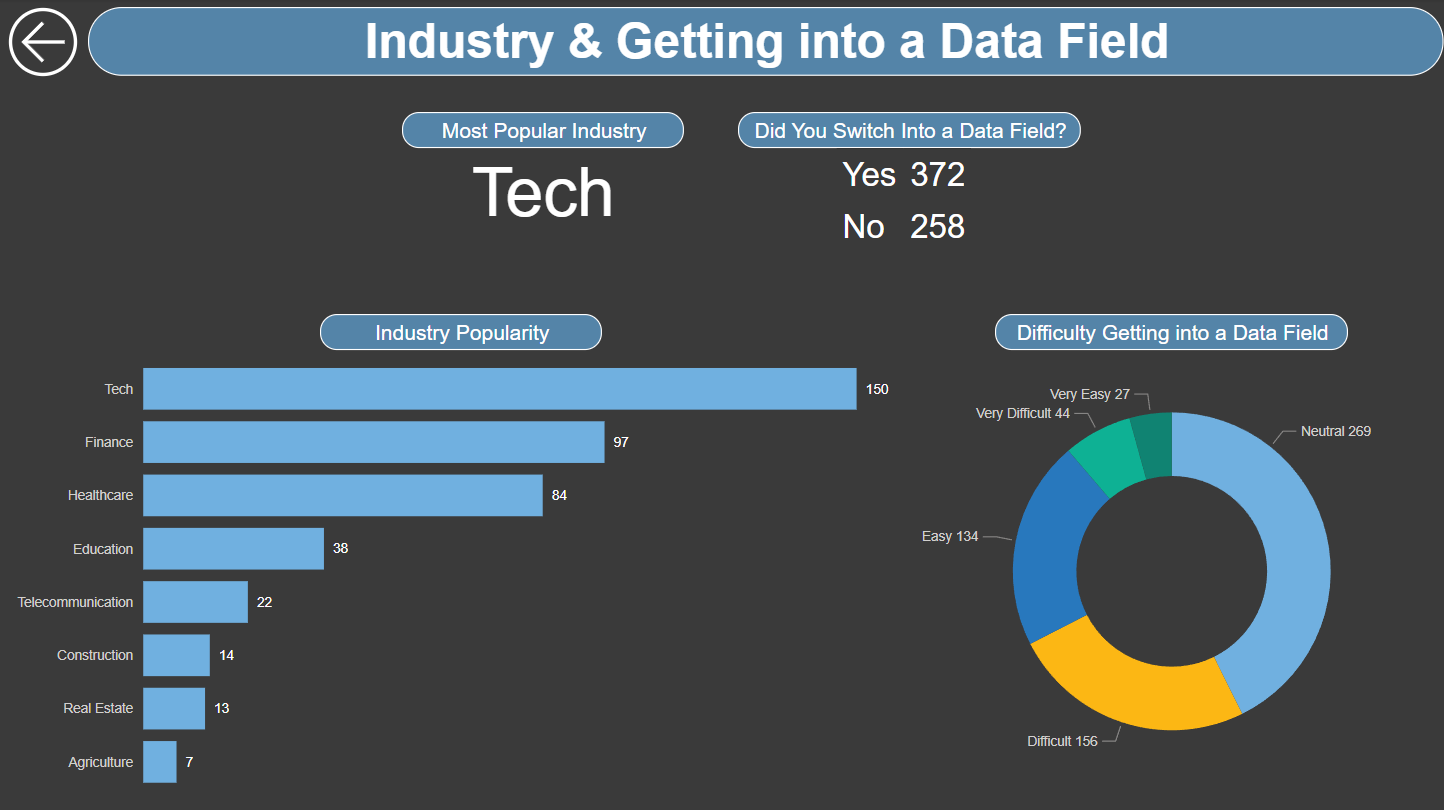

This screenshot's page, from the dashboard's own definition file:
{"tool":"powerbi","page":{"name":"Industry/Field","canvas":[1280,720],"ordinal":3},"visuals":[{"type":"donutChart","title":"Difficulty Breaking Into Data","fields":{"Y":["CountNonNull(Data Professional Survey.Q7 - How difficult was it for you to break into Data?)"],"Category":["Data Professional Survey.Q7 - How difficult was it for you to break into Data?"]},"box":[798.1,295.1,481.9,424.4],"z":0},{"type":"textbox","box":[77.6,7.1,1202.4,61.2],"z":1000},{"type":"actionButton","box":[0,0,78,76.3],"z":2000},{"type":"card","fields":{"Values":["Max(Data Professional Survey.Q4 - What Industry do you work in?.1)"]},"box":[283.6,96.8,395.7,139.9],"z":3000},{"type":"barChart","title":"Industry Popularity","fields":{"Y":["CountNonNull(Data Professional Survey.Q4 - What Industry do you work in?.1)"],"Category":["Data Professional Survey.Q4 - What Industry do you work in?.1"]},"box":[0,295.1,806.7,424.4],"z":4000},{"type":"tableEx","fields":{"Values":["Data Professional Survey.Q2 - Did you switch careers into Data?","CountNonNull(Data Professional Survey.Q2 - Did you switch careers into Data?)"]},"box":[736,86.9,146.3,149.9],"z":5000},{"type":"textbox","box":[654.4,100.2,304.1,31.9],"z":6000},{"type":"textbox","box":[356.5,100.2,250,31.9],"z":7000},{"type":"textbox","box":[882.3,279.3,313,31.9],"z":8000},{"type":"textbox","box":[283.7,279.3,250,31.9],"z":9000}]}

Visuals, with their boxes in screenshot pixels (x1, y1, x2, y2), scaled from the page's 1280x720 canvas onto the 1444x810 screenshot:
"Difficulty Breaking Into Data" donutChart: <bbox>900, 332, 1443, 809</bbox>
textbox: <bbox>88, 8, 1443, 77</bbox>
actionButton: <bbox>0, 0, 88, 86</bbox>
card - Max(Data Professional Survey.Q4 - What Industry do you work in?.1): <bbox>320, 109, 766, 266</bbox>
"Industry Popularity" barChart: <bbox>0, 332, 910, 809</bbox>
tableEx - Data Professional Survey.Q2 - Did you switch careers into Data? x CountNonNull(Data Professional Survey.Q2 - Did you switch careers into Data?): <bbox>830, 98, 995, 266</bbox>
textbox: <bbox>738, 113, 1081, 149</bbox>
textbox: <bbox>402, 113, 684, 149</bbox>
textbox: <bbox>995, 314, 1348, 350</bbox>
textbox: <bbox>320, 314, 602, 350</bbox>
